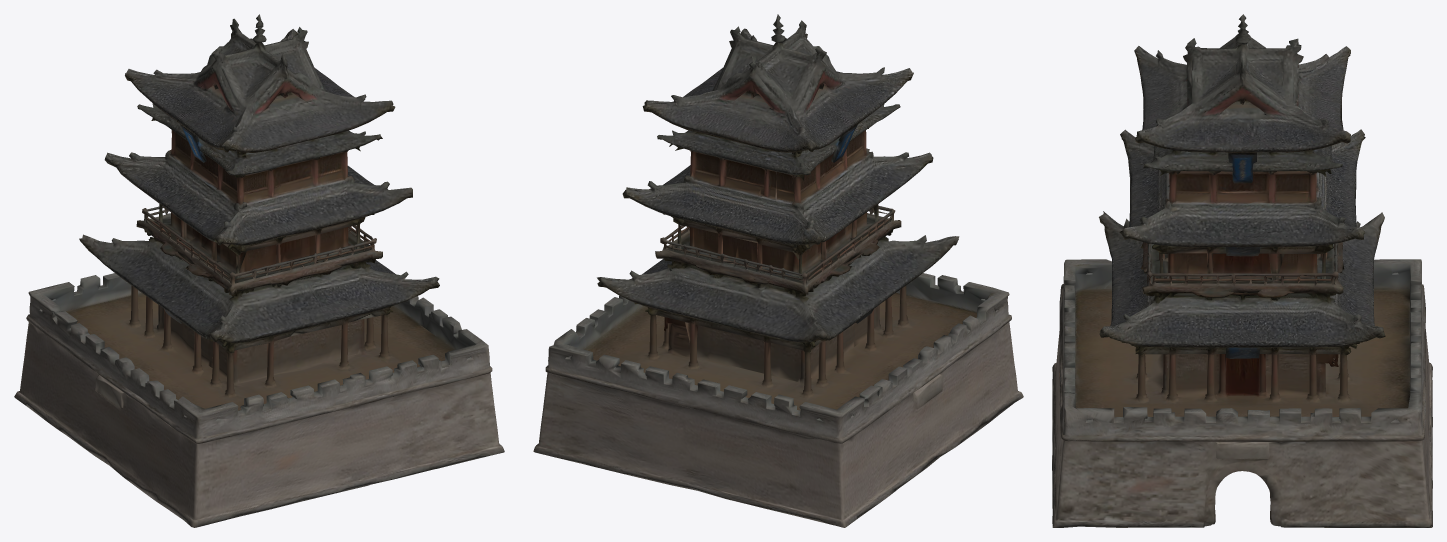
File: building-bianjinglou.glb
3 renders of one model, left to right at view 1: azimuth 30°, elevation 25°; view 2: azimuth 150°, elevation 25°; view 3: azimuth 270°, elevation 25°, orthographic. The views are drawn at different scales.
Visible parts, largest first — view 1: node_0b1fd1af-d6b4-4b2d-b4e0-31c540253391; view 2: node_0b1fd1af-d6b4-4b2d-b4e0-31c540253391; view 3: node_0b1fd1af-d6b4-4b2d-b4e0-31c540253391.
Part boxes in pixels (box(x1,y1,x2,y2)): node_0b1fd1af-d6b4-4b2d-b4e0-31c540253391: box(14, 14, 504, 527); node_0b1fd1af-d6b4-4b2d-b4e0-31c540253391: box(533, 14, 1023, 527); node_0b1fd1af-d6b4-4b2d-b4e0-31c540253391: box(1052, 14, 1432, 527).
Size of the model in its own units: 0.7982 by 1 by 0.7952.
1 material, 1 textured.
